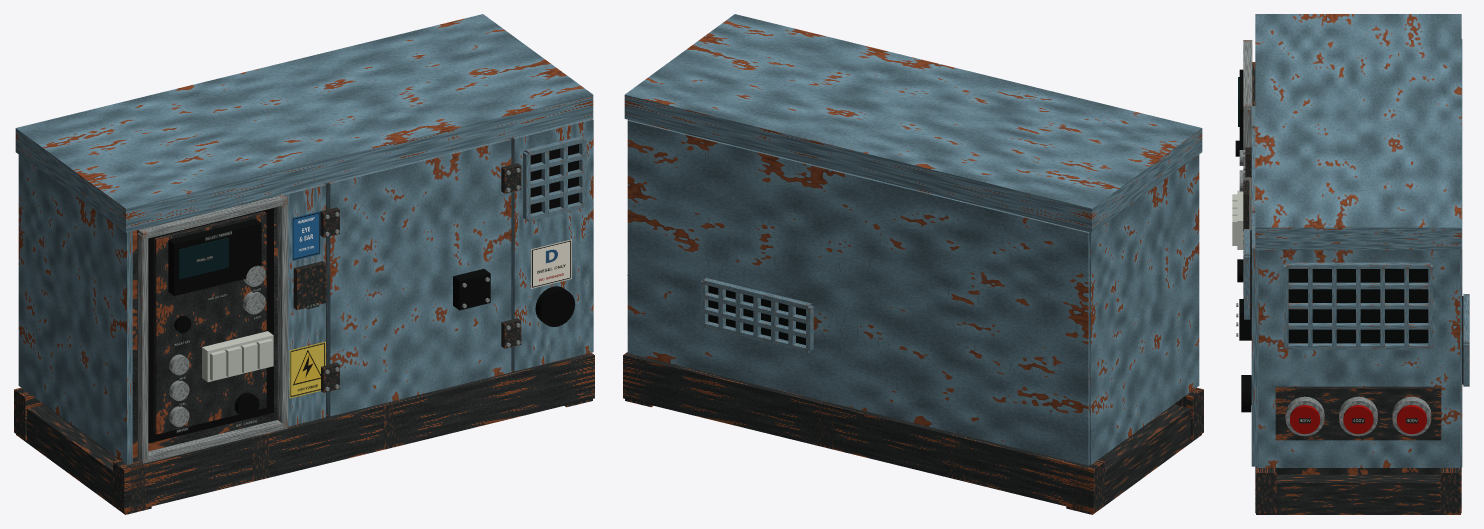
The model's file is Assembly_Body.obj.
The picture shows the model from 3 angles, left to right: view 1: azimuth 30°, elevation 25°; view 2: azimuth 150°, elevation 25°; view 3: azimuth 270°, elevation 25°; orthographic projection. The views are drawn at different scales.
Parts seen in each view (by area): view 1: Roof, FrontPanel0.36, LeftSide, SkidRail0.52, ControlFascia, FrontPanel1.17, FrontPanel-0.35, SkidFoot-1.34, PanelRecess, DisplayBezel, InnerEngine, PanelFrame-1.34 (+16 smaller); view 2: RearPanel, Roof, LeftSide, SkidRail-0.52, SkidFoot-1.34, RearVentInside, RearVentH3, RearVentH0, RearVentH1, RearVentH2, SkidRail0.52, SkidCross-0.520.2; view 3: Roof, RightSide, SideVentInside, SkidFoot1.34, SocketPlate, FrontPanel1.17, InnerEngine, RearPanel, SkidRail0.52, SkidRail-0.52, SideVentH4, SideVentH3 (+27 smaller).
Part boxes in pixels (bbox=[...]): Roof: bbox=[15, 14, 593, 232]; FrontPanel0.36: bbox=[326, 138, 511, 416]; LeftSide: bbox=[18, 154, 132, 464]; SkidRail0.52: bbox=[113, 353, 594, 512]; ControlFascia: bbox=[153, 211, 266, 434]; FrontPanel1.17: bbox=[511, 118, 593, 371]; FrontPanel-0.35: bbox=[279, 183, 325, 426]; SkidFoot-1.34: bbox=[16, 404, 151, 514]; PanelRecess: bbox=[137, 197, 273, 443]; DisplayBezel: bbox=[168, 218, 261, 295]; InnerEngine: bbox=[42, 184, 326, 459]; PanelFrame-1.34: bbox=[137, 233, 148, 460]; RearPanel: bbox=[627, 120, 1089, 465]; Roof: bbox=[624, 14, 1202, 232]; LeftSide: bbox=[1089, 154, 1199, 464]; SkidRail-0.52: bbox=[623, 352, 1104, 512]; SkidFoot-1.34: bbox=[1066, 404, 1201, 514]; RearVentInside: bbox=[708, 285, 811, 344]; RearVentH3: bbox=[702, 278, 811, 309]; RearVentH0: bbox=[702, 321, 809, 352]; RearVentH1: bbox=[703, 307, 807, 338]; RearVentH2: bbox=[705, 292, 807, 323]; SkidRail0.52: bbox=[1187, 387, 1203, 440]; SkidCross-0.520.2: bbox=[817, 400, 833, 449]; Roof: bbox=[1255, 14, 1461, 250]; RightSide: bbox=[1257, 250, 1459, 467]; SideVentInside: bbox=[1288, 269, 1428, 343]; SkidFoot1.34: bbox=[1256, 474, 1460, 514]; SocketPlate: bbox=[1275, 386, 1441, 440]; FrontPanel1.17: bbox=[1251, 212, 1258, 466]; InnerEngine: bbox=[1276, 468, 1440, 474]; RearPanel: bbox=[1460, 39, 1462, 467]; SkidRail0.52: bbox=[1255, 466, 1276, 513]; SkidRail-0.52: bbox=[1440, 467, 1461, 513]; SideVentH4: bbox=[1286, 262, 1430, 268]; SideVentH3: bbox=[1287, 282, 1430, 289].
Size of the model in its own units: 2.95 by 1.78 by 1.33.
24 materials, 20 textured.
